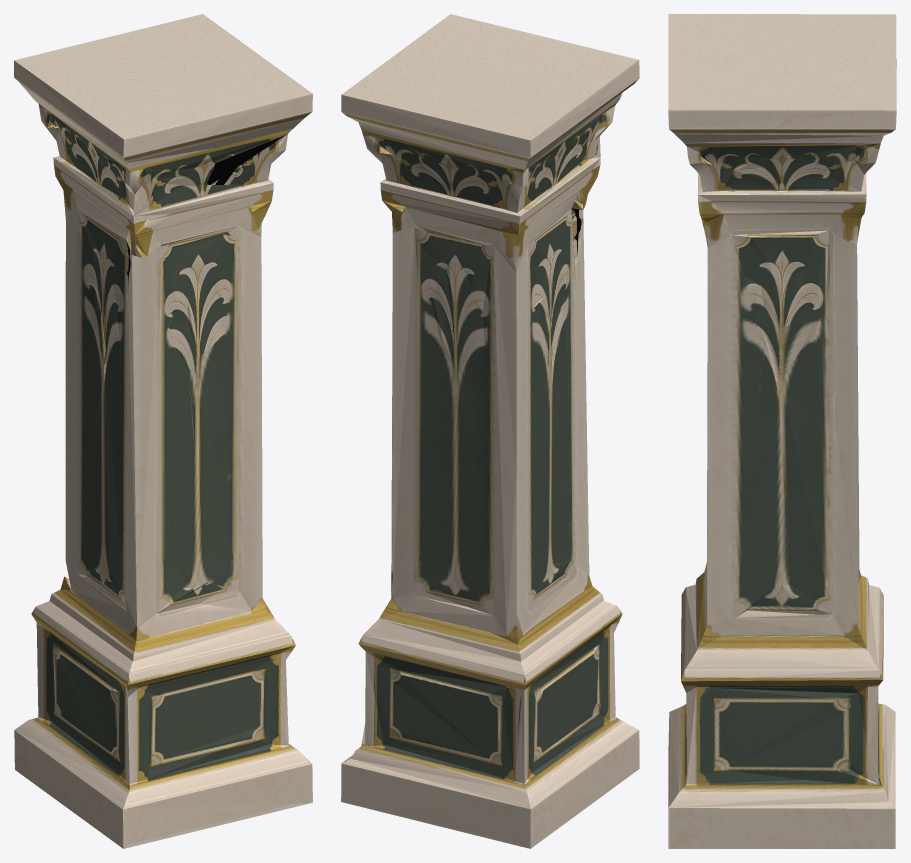
File: item03.glb
The picture shows the model from 3 angles, left to right: view 1: azimuth 30°, elevation 25°; view 2: azimuth 150°, elevation 25°; view 3: azimuth 270°, elevation 25°; orthographic projection. The views are drawn at different scales.
Visible parts, largest first — view 1: output_unwrapped; view 2: output_unwrapped; view 3: output_unwrapped.
Part boxes in pixels (x1,y1,x2,y2): output_unwrapped: [14, 14, 312, 848]; output_unwrapped: [341, 14, 639, 848]; output_unwrapped: [668, 14, 896, 848].
Size of the model in its own units: 0.28 by 1 by 0.28.
1 material, 1 textured.
